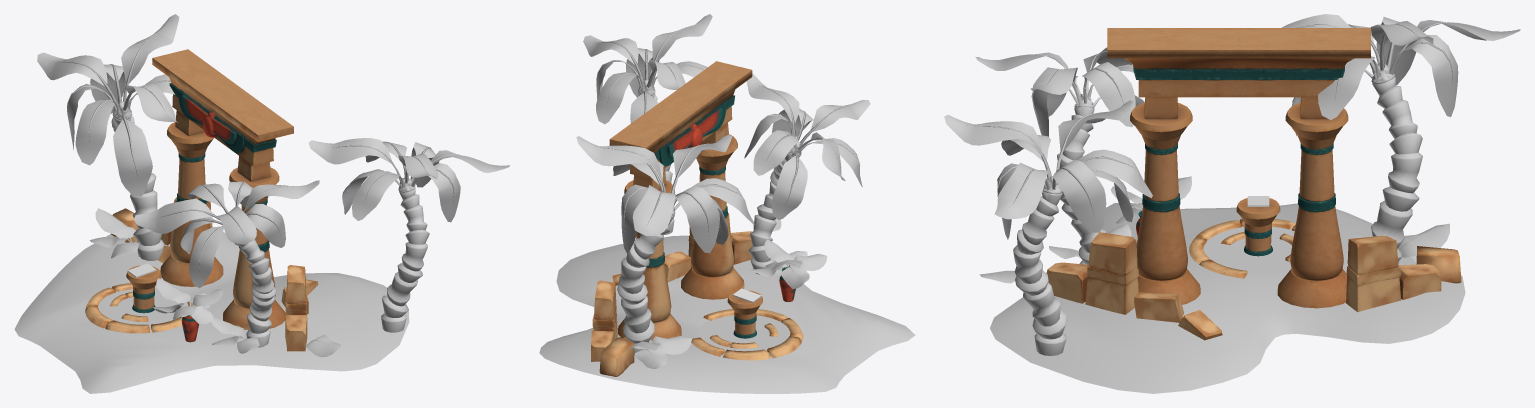
The model's file is Scene_entrance.fbx.
3 views of the same model, side by side, from view 1: azimuth 30°, elevation 25°; view 2: azimuth 150°, elevation 25°; view 3: azimuth 270°, elevation 25° (orthographic). The views are drawn at different scales.
Parts seen in each view (by area): view 1: Line002, Arch, Box034, Box036, Box035, Stones001, Box052, Box042, Round Stone007, Water001, Object025, Box051; view 2: Line002, Arch, Box034, Box035, Box036, Water001, Round Stone007, Stones, Box042, Box052, Object023, Object025 (+3 smaller); view 3: Arch, Line002, Box036, Box034, Box035, Stones001, Stones, Water001, Object025, Round Stone007, Box052, Object026 (+3 smaller).
Boxes of the visible parts, <box> form: Line002: <box>14,232,409,393</box>; Arch: <box>152,49,293,330</box>; Box034: <box>37,14,179,260</box>; Box036: <box>308,138,509,332</box>; Box035: <box>133,180,319,347</box>; Stones001: <box>285,265,307,351</box>; Box052: <box>90,208,340,357</box>; Box042: <box>153,278,223,324</box>; Round Stone007: <box>85,283,193,333</box>; Water001: <box>98,288,187,327</box>; Object025: <box>126,265,161,313</box>; Box051: <box>210,317,259,353</box>; Line002: <box>539,235,915,393</box>; Arch: <box>609,61,752,340</box>; Box034: <box>576,134,754,356</box>; Box035: <box>744,73,870,274</box>; Box036: <box>583,14,712,235</box>; Water001: <box>696,315,790,352</box>; Round Stone007: <box>691,309,803,360</box>; Stones: <box>591,280,617,361</box>; Box042: <box>751,239,827,288</box>; Box052: <box>625,218,781,368</box>; Object023: <box>599,337,634,376</box>; Object025: <box>727,290,762,338</box>; Arch: <box>1107,28,1370,308</box>; Line002: <box>990,203,1465,393</box>; Box036: <box>944,100,1152,355</box>; Box034: <box>1281,14,1520,265</box>; Box035: <box>975,47,1144,264</box>; Stones001: <box>1046,232,1138,314</box>; Stones: <box>1346,235,1441,312</box>; Water001: <box>1203,226,1294,275</box>; Object025: <box>1236,198,1280,256</box>; Round Stone007: <box>1189,219,1295,278</box>; Box052: <box>979,223,1449,283</box>; Object026: <box>1134,292,1183,322</box>.
Bounding box in the file's own units: 558 × 347 × 598.
